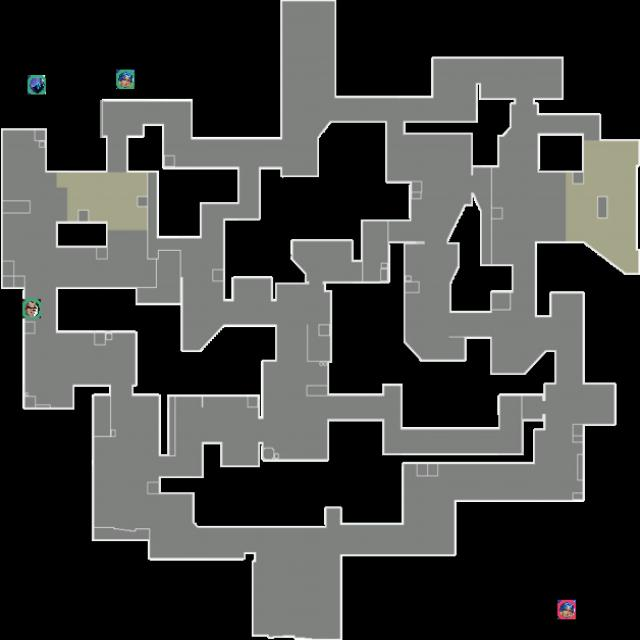atk_neon: (557, 600, 576, 619)
def_chamber: (22, 299, 41, 318)
def_neon: (116, 70, 135, 89)
def_omen: (27, 75, 46, 95)
